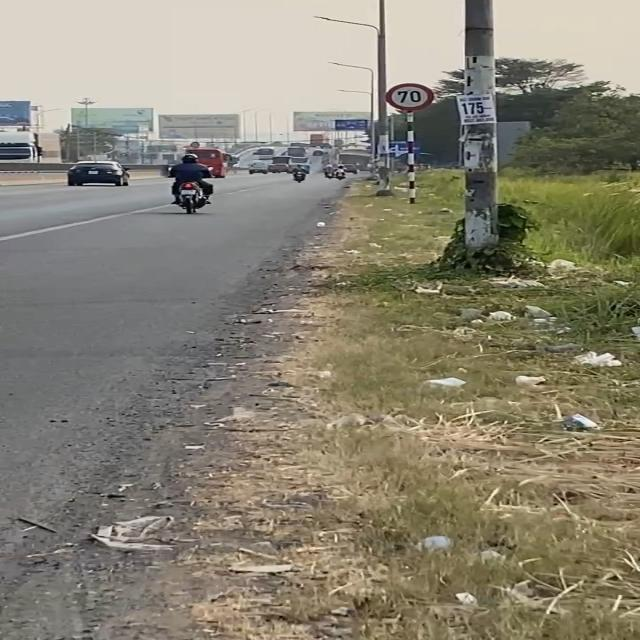127-toc-do-toi-da-70: (386, 82, 434, 111)
